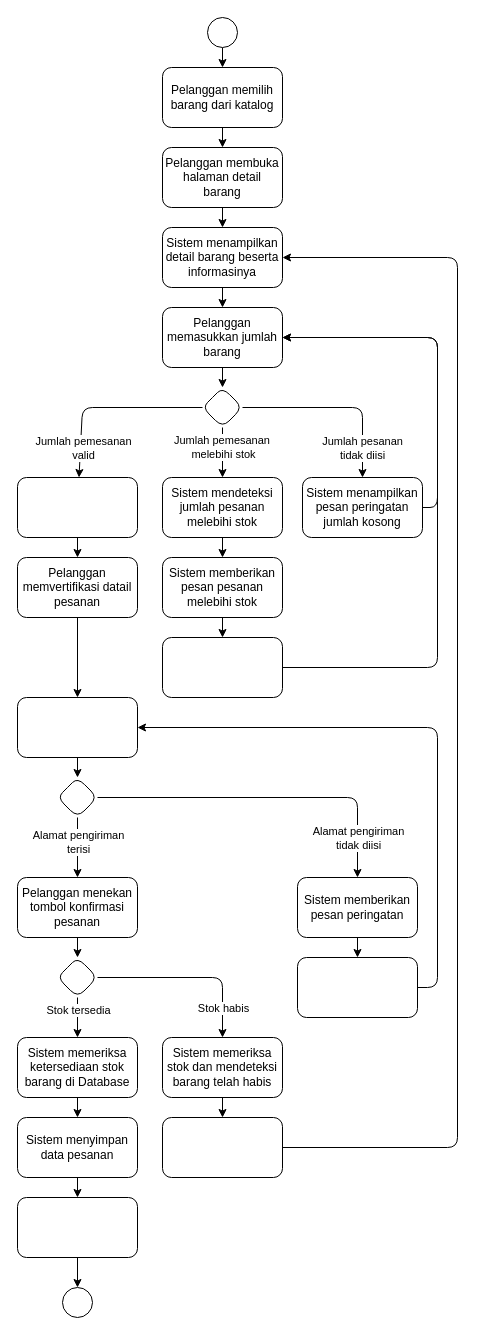
This 483x1335 diagram has some shape labels left out. The shapes that lost their labels are listed below. From the top down, each one's box as (x1, y1, x2, y2) in pixels, then its label:
(16, 476, 138, 538): Sistem menampilkan form konfirmasi pesanan
(162, 636, 282, 698): Sistem mengosongkan jumlah pesanan
(16, 696, 138, 758): Pelanggan mengisi alamat pengiriman
(296, 956, 418, 1018): Sistem menandai kolom alamat dan menunggu pengisian
(162, 1116, 282, 1178): Sistem menampilkan pesan barang telah habis
(16, 1196, 138, 1258): Sistem menampilkan pesan beserta nomor pesanan
